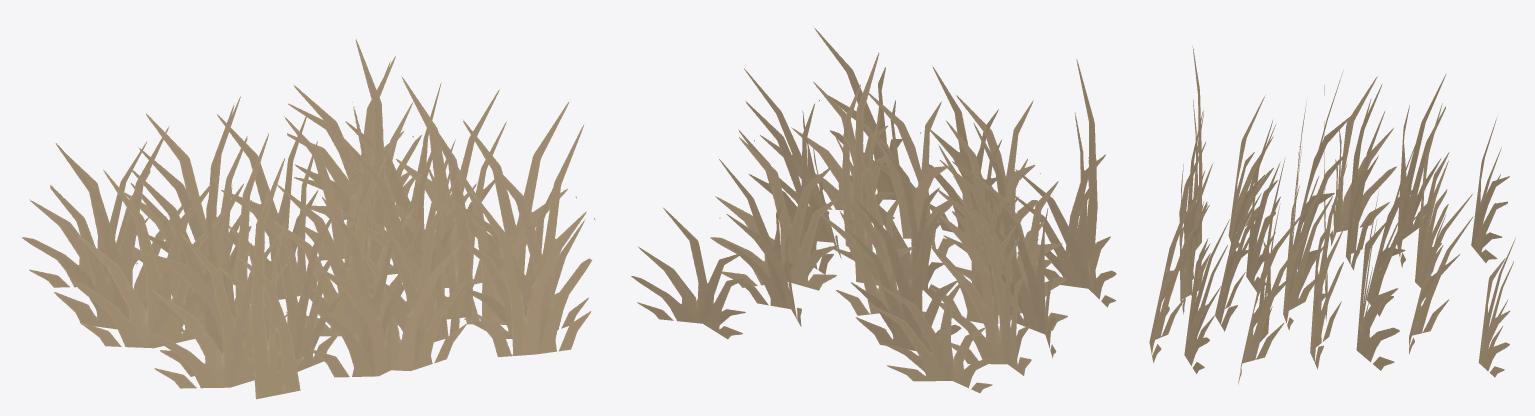
The model's file is hiddenItem.fbx.
3 views of the same model, side by side, from view 1: azimuth 30°, elevation 25°; view 2: azimuth 150°, elevation 25°; view 3: azimuth 270°, elevation 25° (orthographic). The views are drawn at different scales.
Parts seen in each view (by area): view 1: hiddenItem; view 2: hiddenItem; view 3: hiddenItem.
Boxes of the visible parts, bbox=[...] form: hiddenItem: bbox=[22, 39, 595, 399]; hiddenItem: bbox=[631, 28, 1116, 393]; hiddenItem: bbox=[1149, 46, 1515, 384].
Size of the model in its own units: 2.82 by 1.87 by 2.35.
